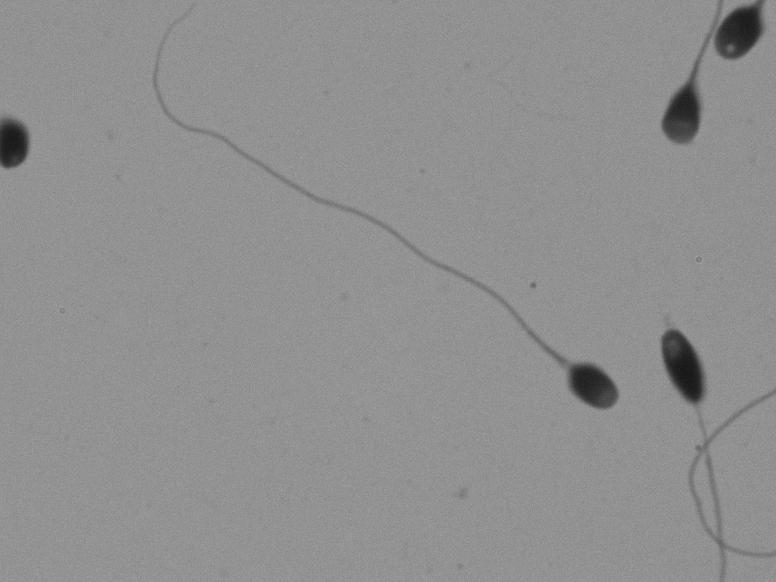Abnormal: (636, 263, 730, 501)
Normal: (121, 54, 643, 463)
